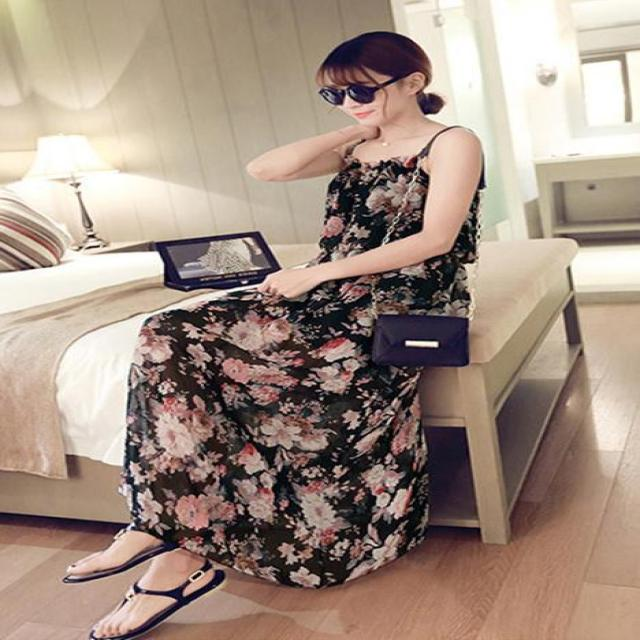sling dress: (116, 126, 488, 592)
